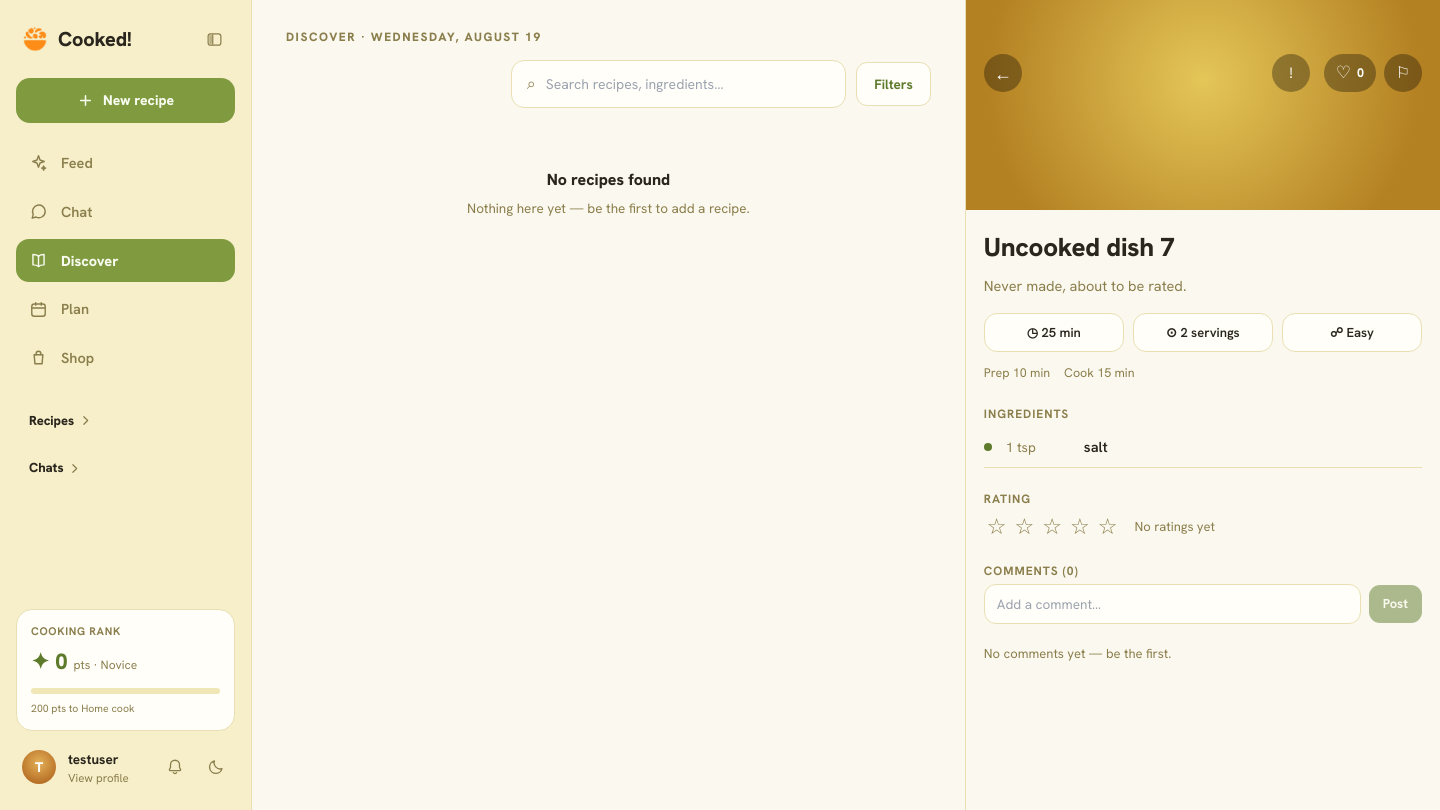
rating a recipe with no cook behind it › keeps the prompt open, with the star still unwritten, when the cook fails
Expected: the text "No ratings yet" is shown, [1134, 517, 1215, 536]
Click the button named "Rate 4 out of 5". click: (1080, 527)
box: [1067, 514, 1093, 540]
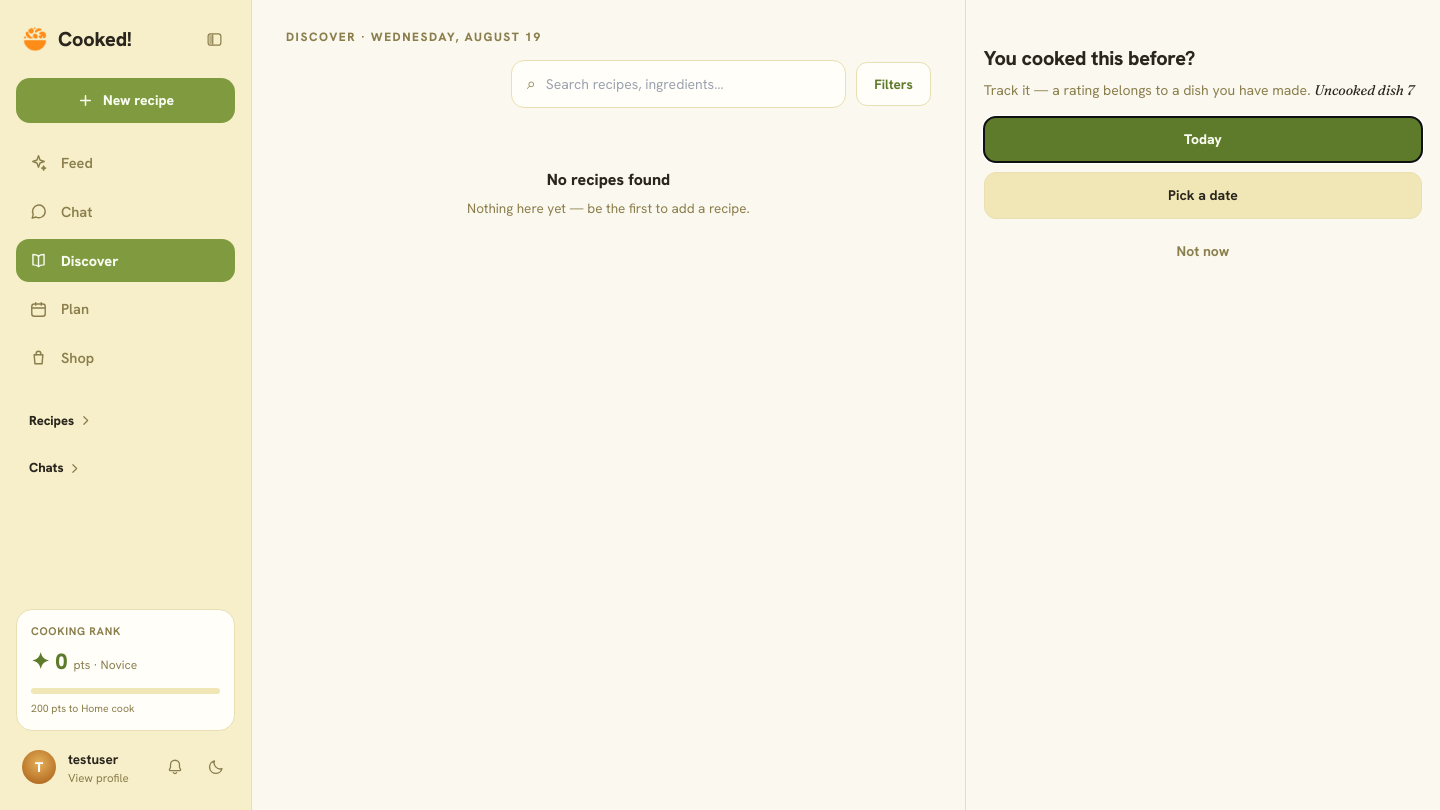
Click the button "Today". click: (1203, 140)
box: [984, 117, 1422, 162]
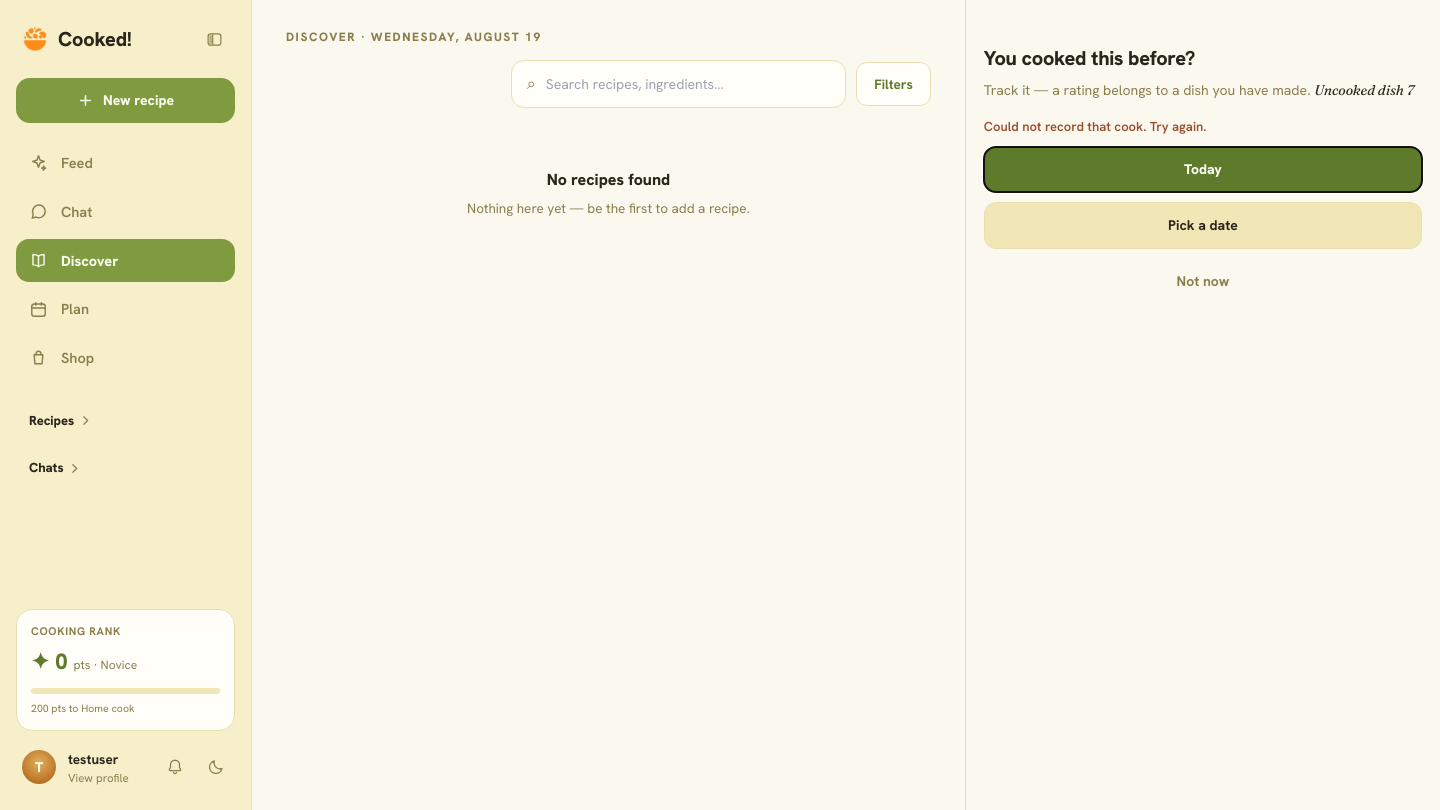
Expected: the heading "You cooked this before?" is shown, [984, 45, 1195, 71]
Expected: the message shows "Could not record that cook", [984, 118, 1206, 135]
